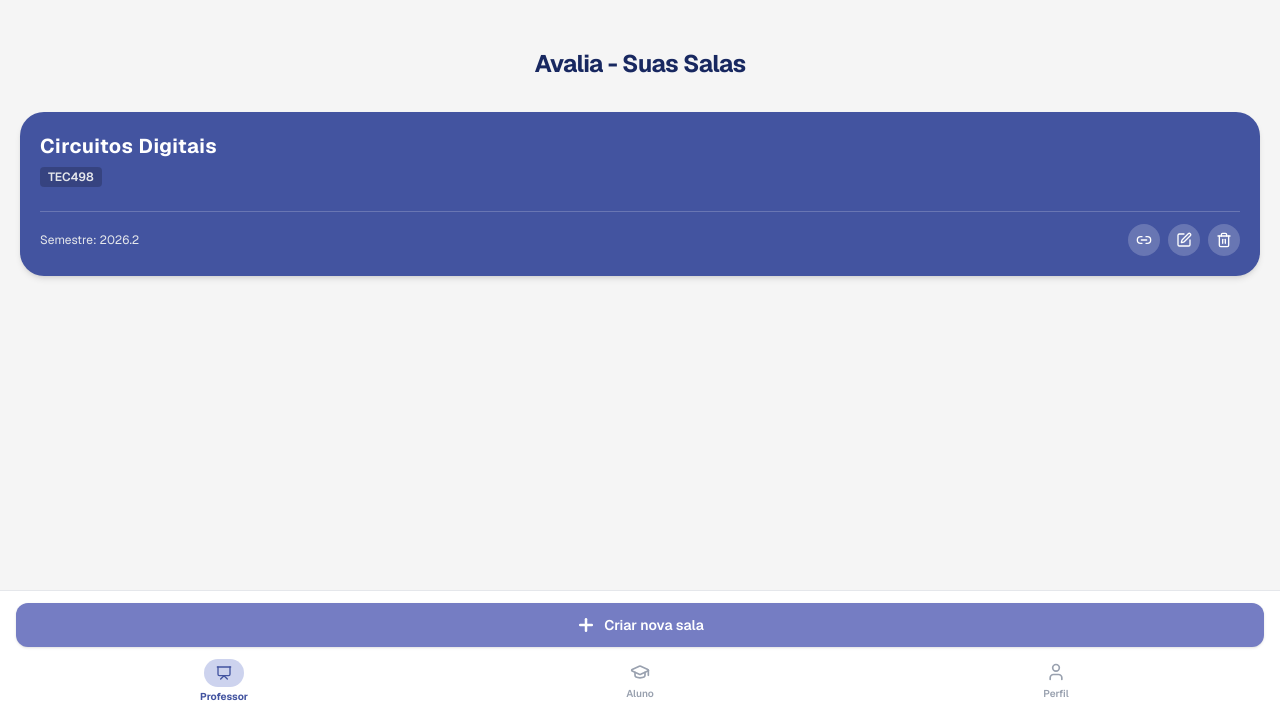
Test: [US03] Rooms page integration › should POST the typed name and show the new room in the list
This screenshot has width=1280, height=720.
expect the heading "Circuitos Digitais" is shown: met, box [40, 133, 217, 159]
Click the button "Criar nova sala" at (640, 625), box [16, 603, 1264, 647]
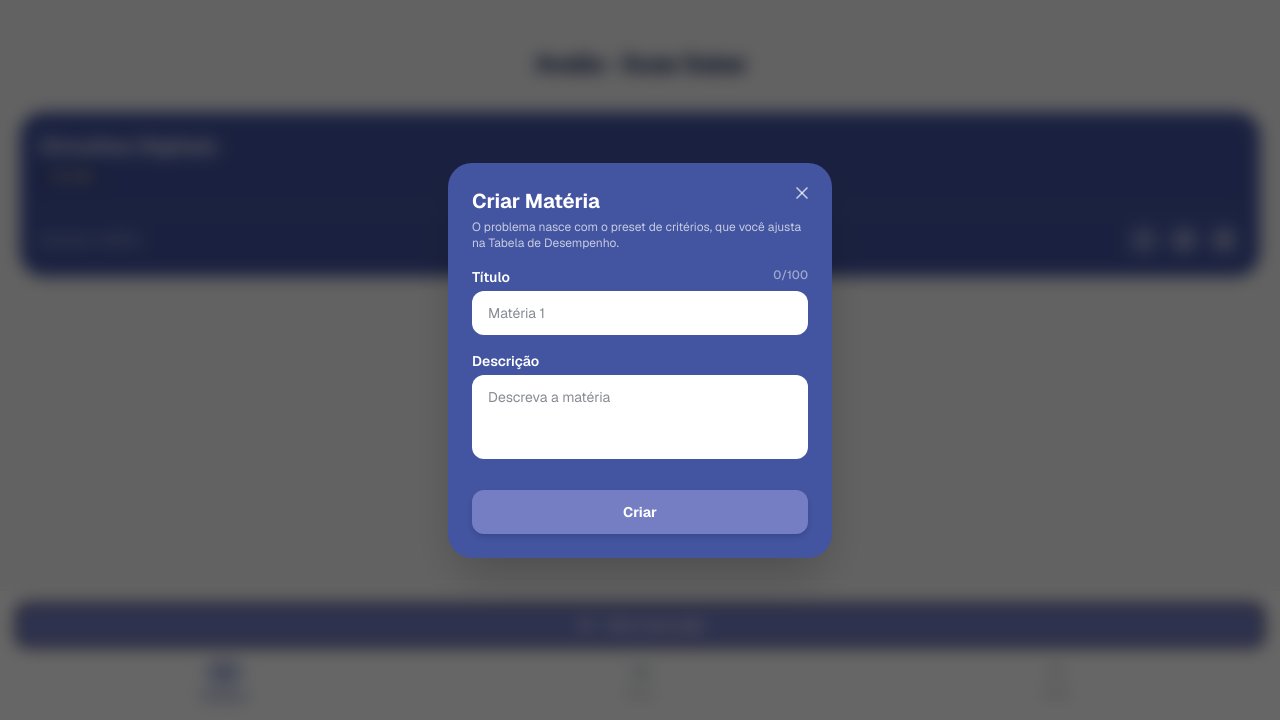
Type "New Room" into the field named "nome da sala" at (640, 312), box [472, 290, 808, 334]
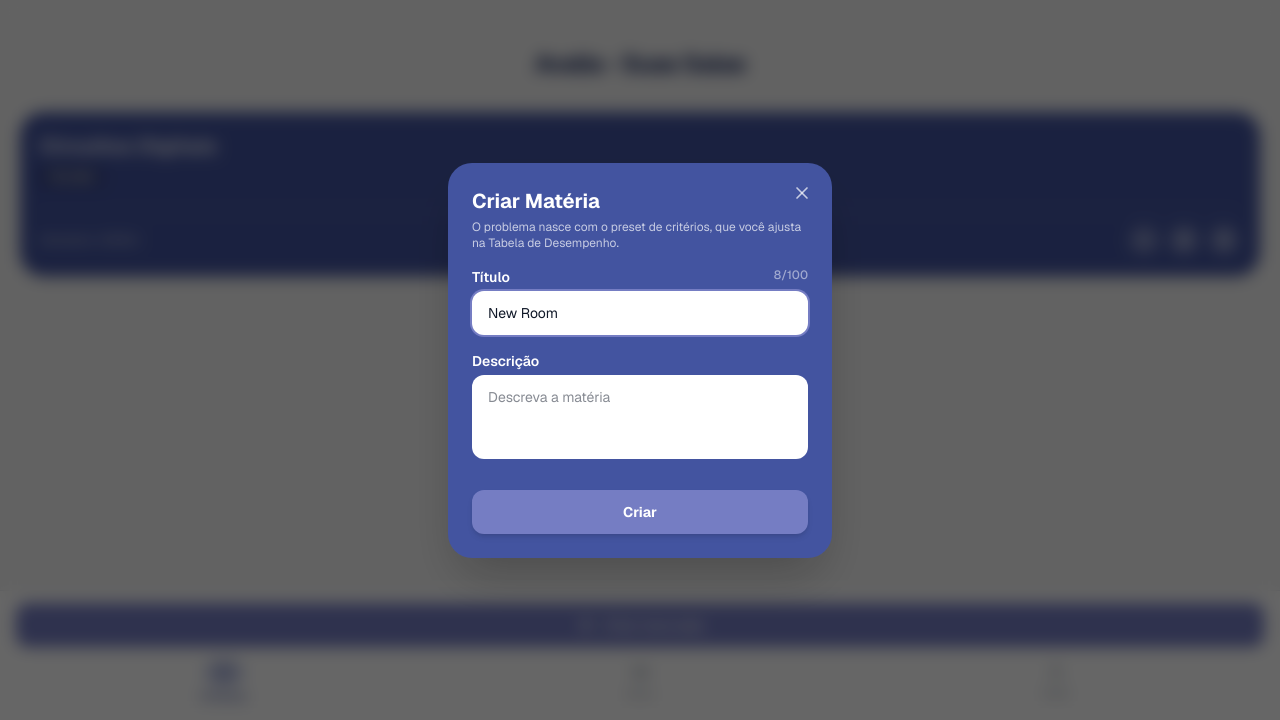
Click the button "Criar" at (640, 512), box [472, 490, 808, 534]
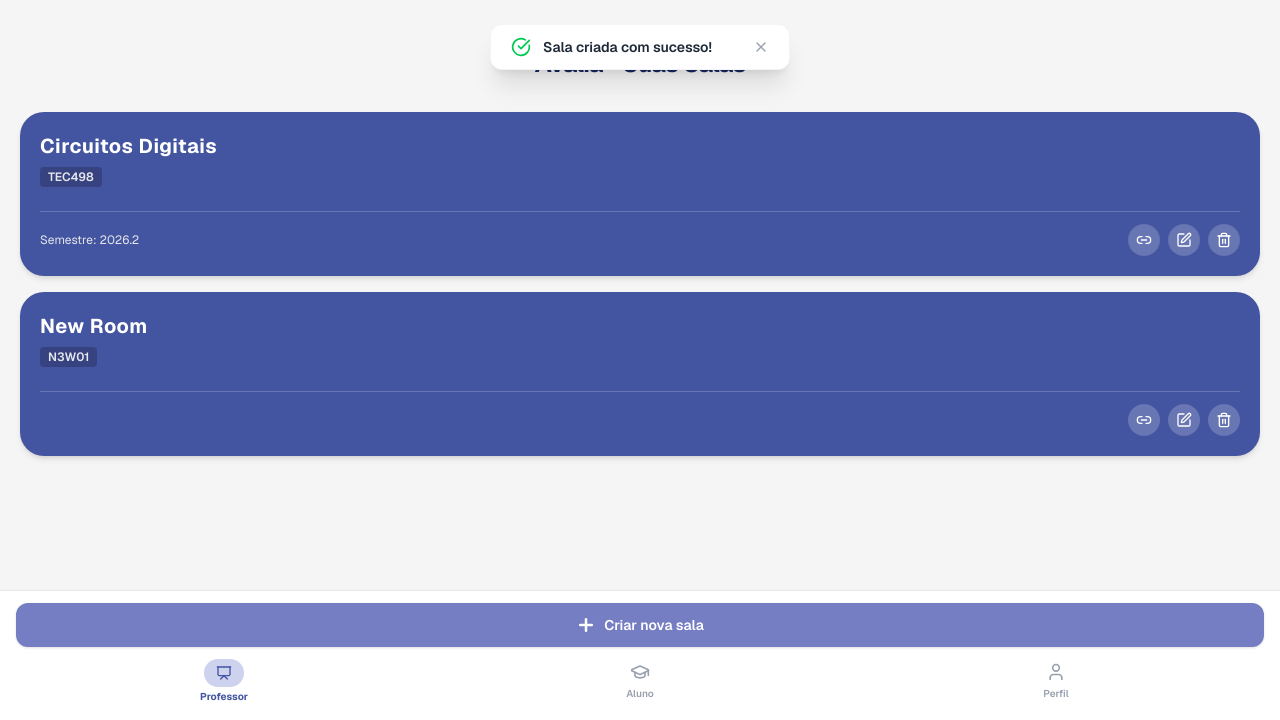
expect the heading "New Room" is shown: met, box [40, 313, 148, 339]
